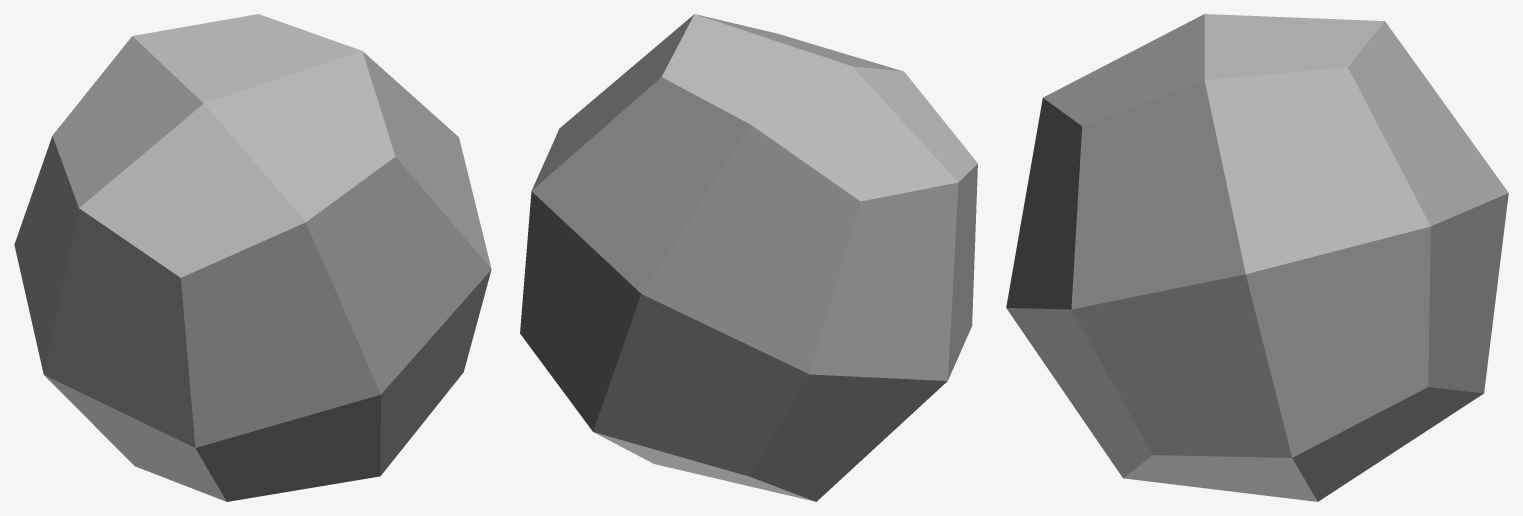
The model's file is CatapultStone.FBX.
The picture shows the model from 3 angles, left to right: view 1: azimuth 30°, elevation 25°; view 2: azimuth 150°, elevation 25°; view 3: azimuth 270°, elevation 25°; orthographic projection. The views are drawn at different scales.
Parts seen in each view (by area): view 1: PitchingTowerStone; view 2: PitchingTowerStone; view 3: PitchingTowerStone.
Boxes of the visible parts, x1,y1,x2,y2 form: PitchingTowerStone: (14, 14, 491, 501); PitchingTowerStone: (520, 14, 977, 501); PitchingTowerStone: (1006, 14, 1508, 501).
Size of the model in its own units: 18.27 by 17.79 by 18.9.
